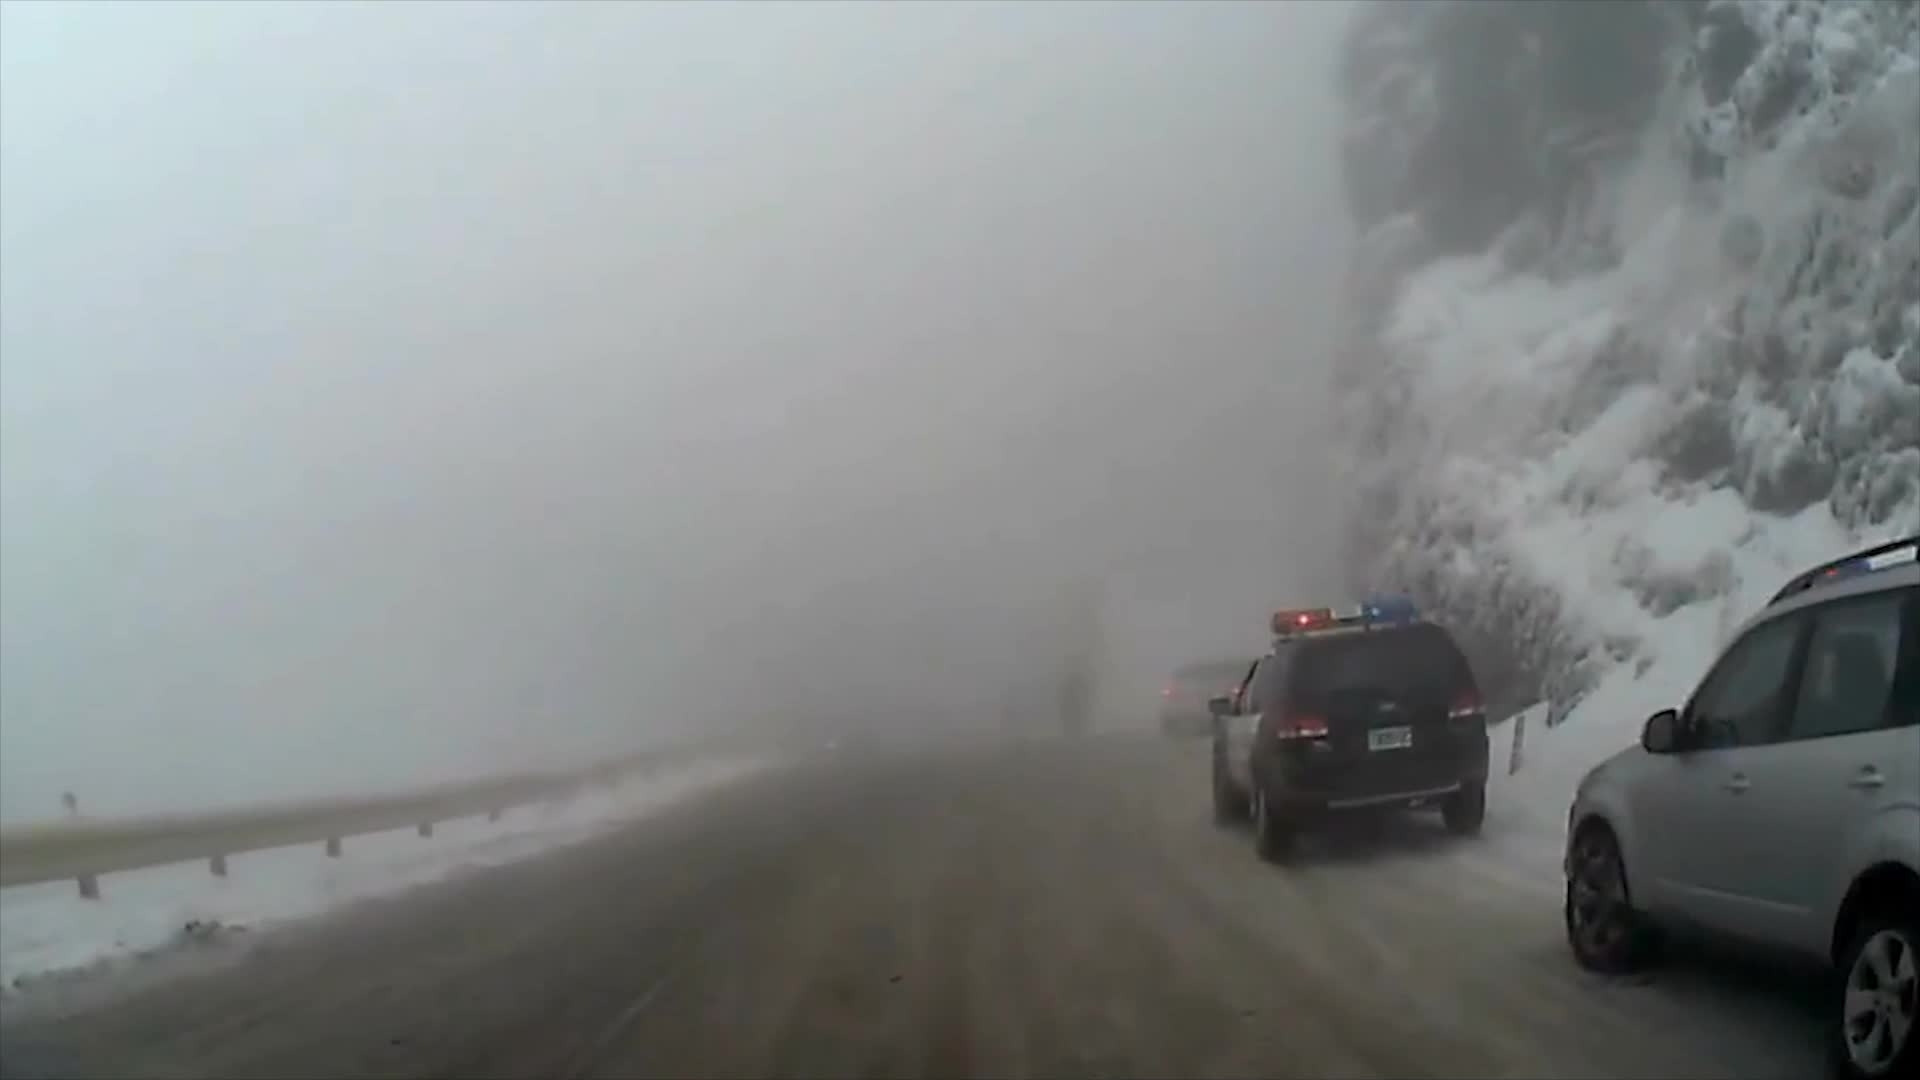vehicle: (1559, 527, 1920, 1079), (1205, 593, 1491, 858)
